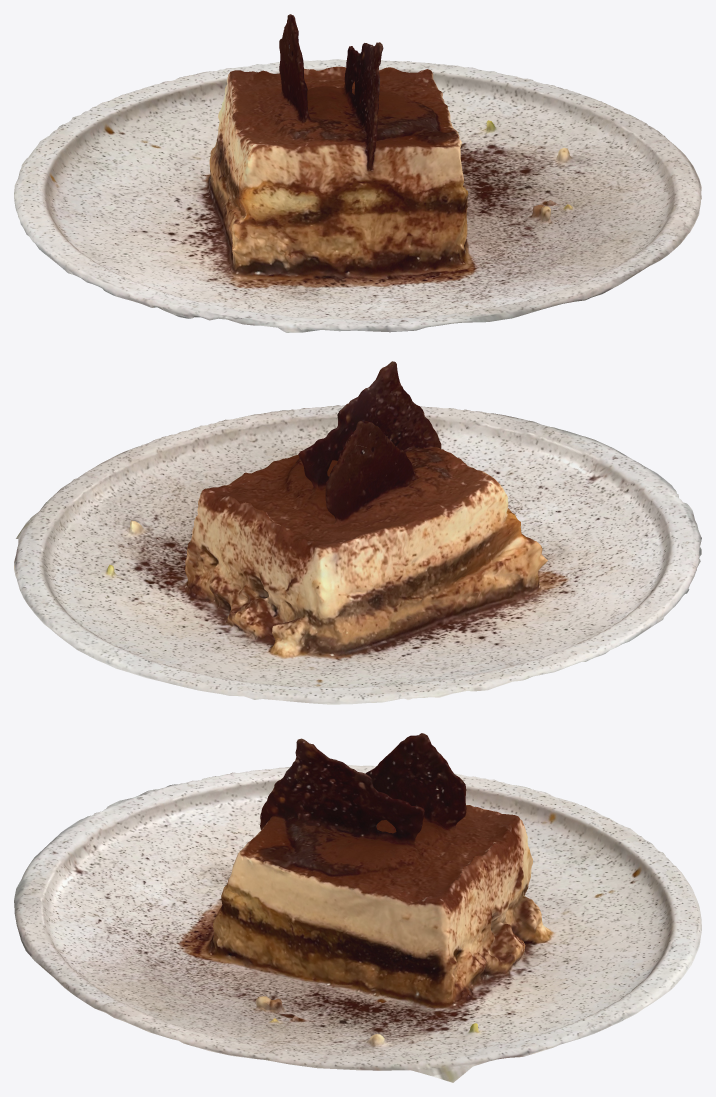
Rendered from tiramisu.gltf.
3 renders of one model, top to bottom at view 1: azimuth 30°, elevation 25°; view 2: azimuth 150°, elevation 25°; view 3: azimuth 270°, elevation 25°, orthographic.
Visible parts, largest first — view 1: Object_2; view 2: Object_2; view 3: Object_2.
Part boxes in pixels (x1,y1,x2,y2): Object_2: (14,14,701,332); Object_2: (14,361,701,704); Object_2: (14,733,701,1082).
Size of the model in its own units: 147 by 47.81 by 146.
Materials: 1 (1 with a texture image).
